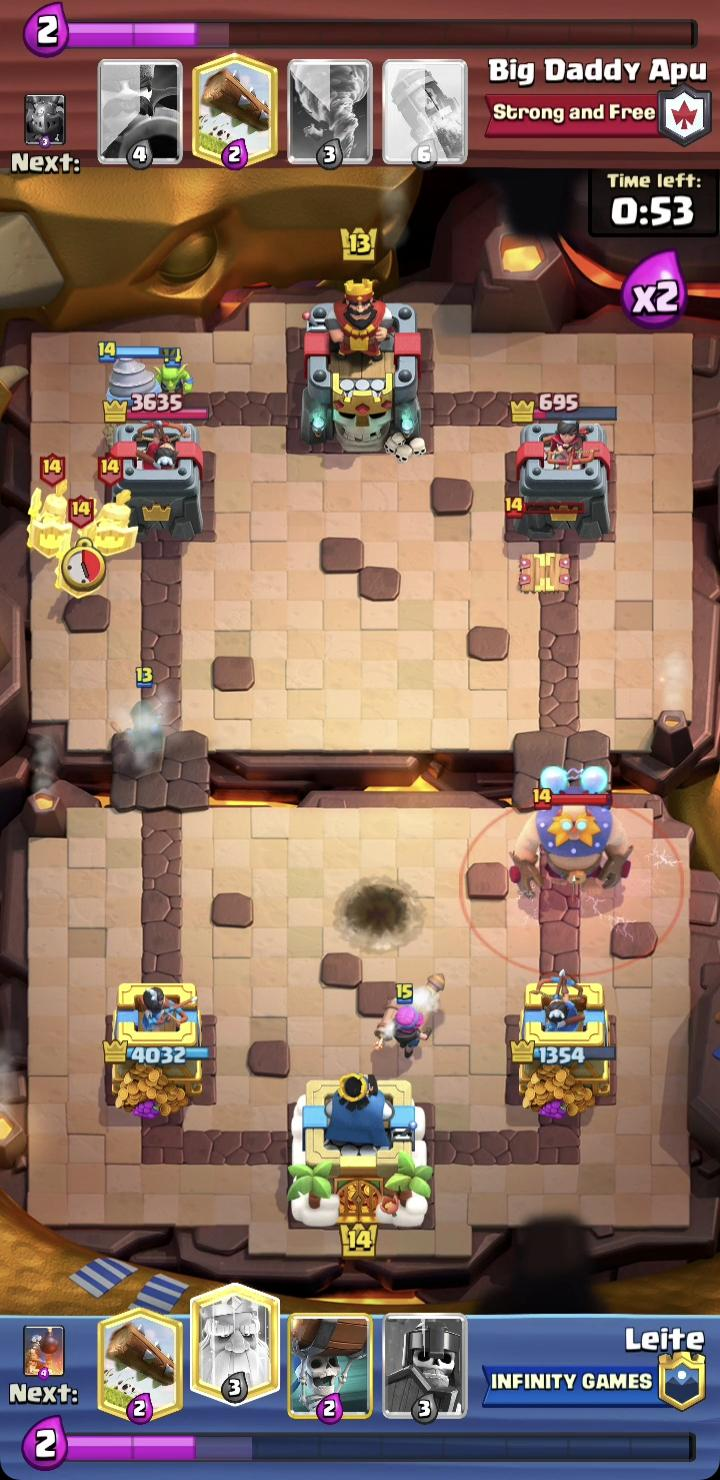EElectroG: (513, 794, 631, 890)
EGuard: (27, 454, 72, 559), (60, 515, 105, 598), (85, 490, 137, 559)
EKingTower: (301, 280, 424, 460)
ETesla: (518, 553, 574, 594)
EnemyPrincessTower: (506, 411, 610, 541), (99, 414, 203, 541)
OBandit: (118, 667, 164, 774)
OFirecrack: (375, 978, 443, 1059)
OGoblin: (155, 347, 192, 393)
OGoblinDrill: (103, 346, 173, 423)
OwnKingTower: (288, 1075, 432, 1229)
OwnPrincessTower: (510, 973, 615, 1115), (103, 983, 212, 1116)
